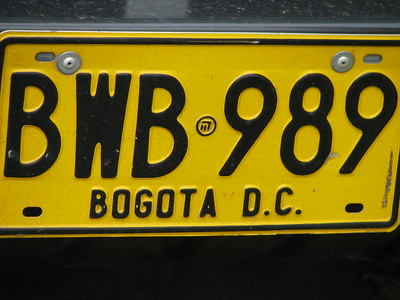placa_carro: (0, 23, 400, 252)
